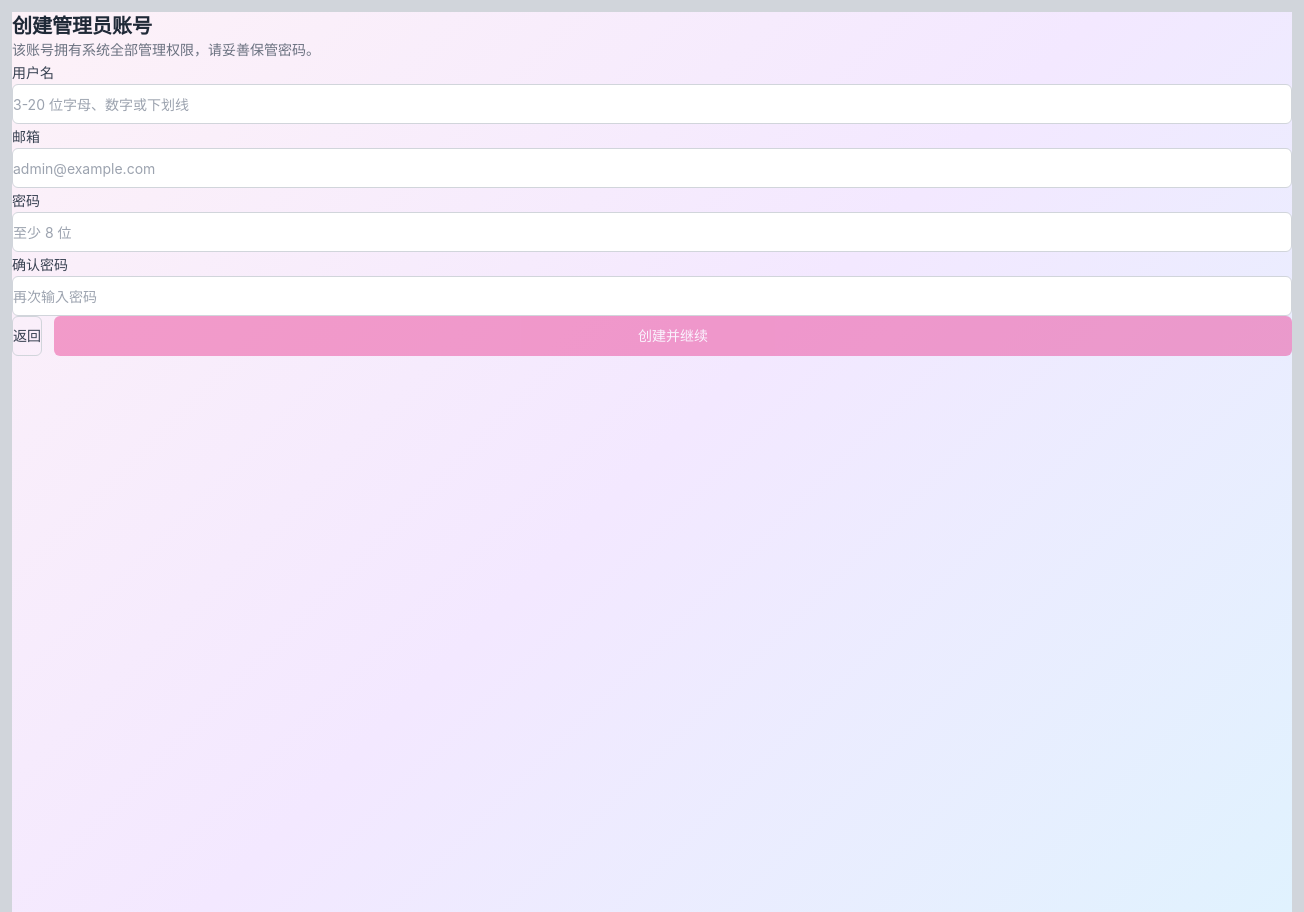
Scenario: Step2Admin · 弱密码实时禁用「创建并继续」（m3） › 全部合法（含两次一致的强密码）时按钮可用
Type "admin01" into the field with test id "onboarding-username" at (652, 104), box [12,84,1292,124]
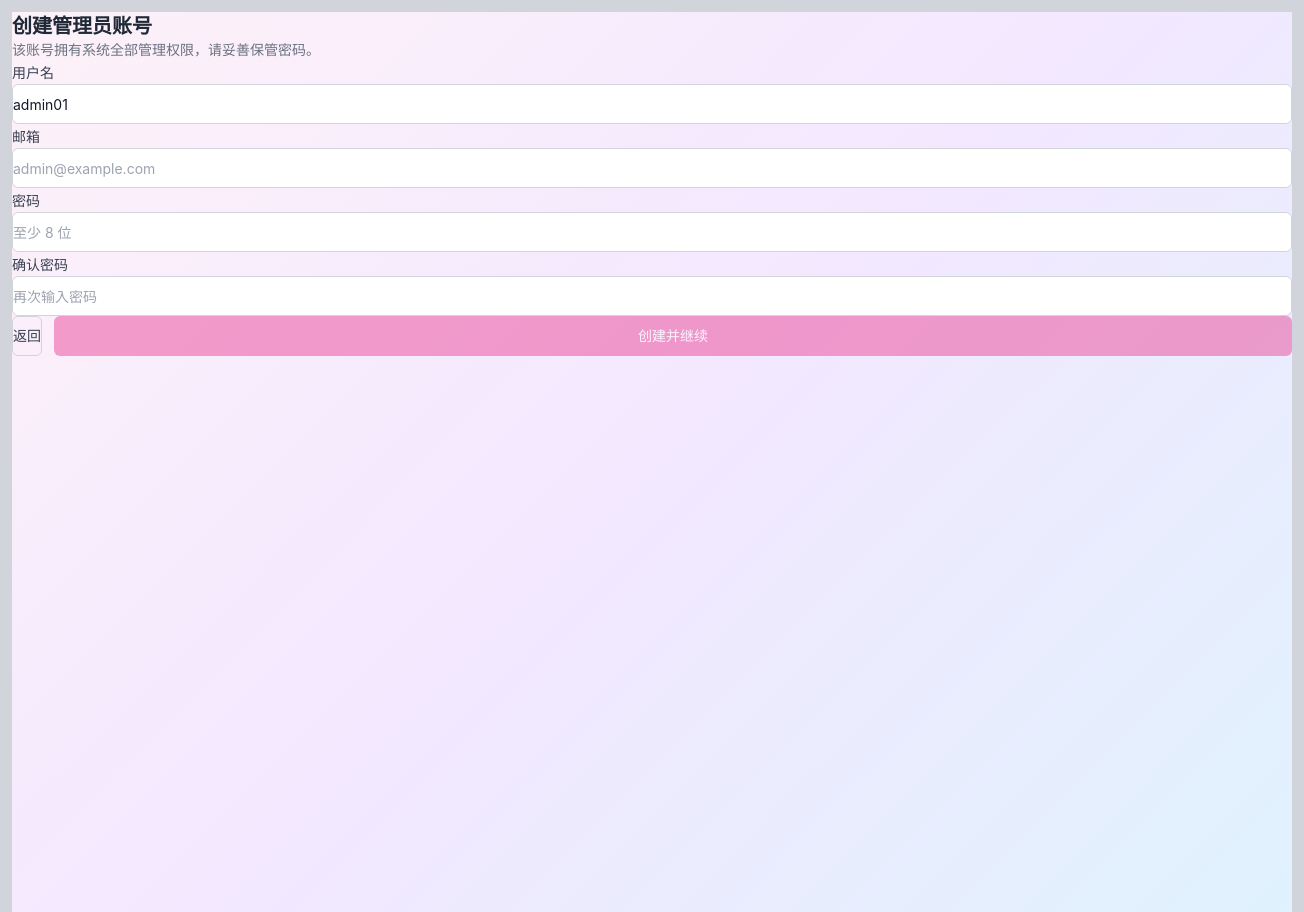
Type "admin@dm.local" into the field with test id "onboarding-email" at (652, 168), box [12,148,1292,188]
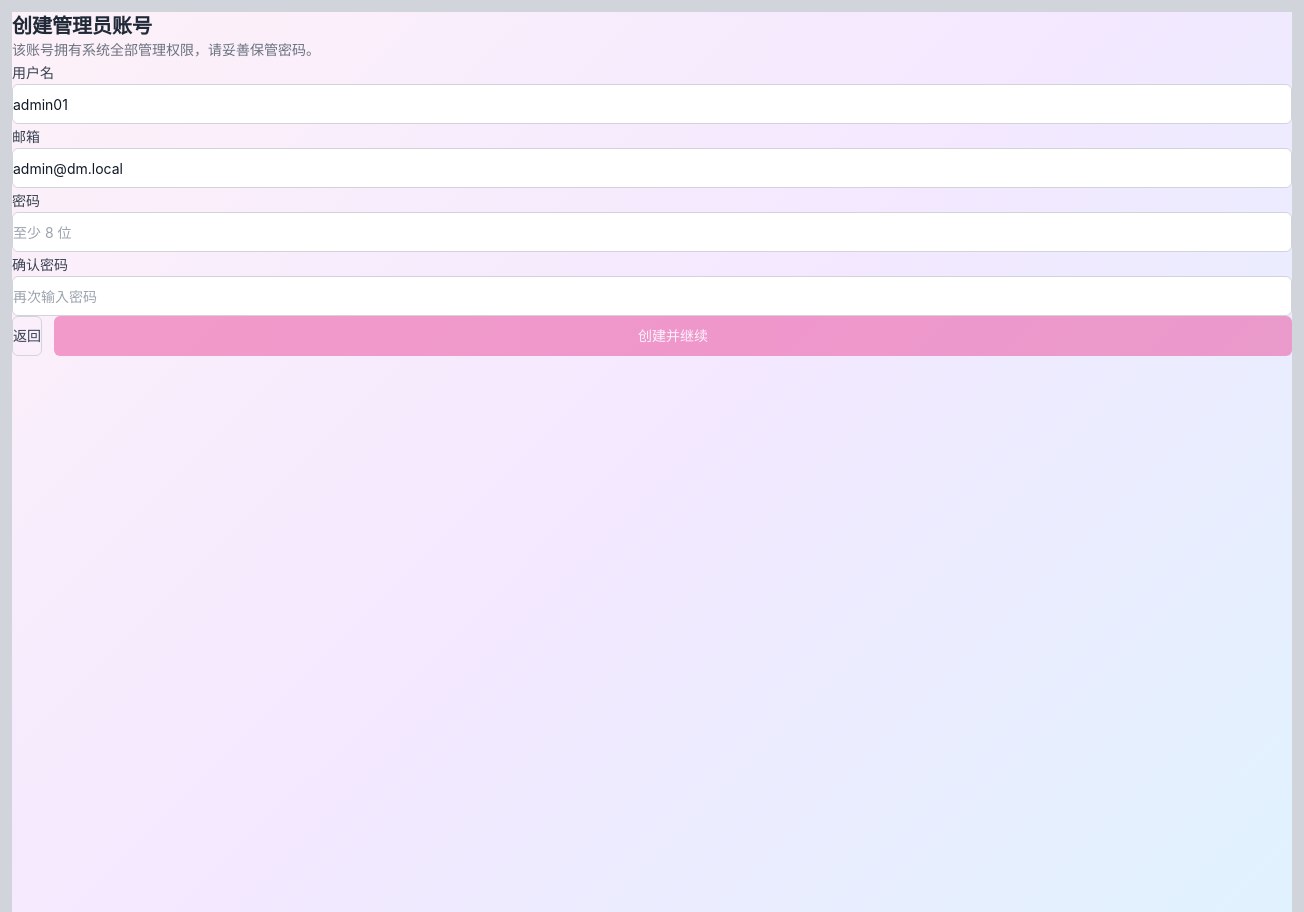
Type "StrongPass123" into the password field with test id "onboarding-password" at (652, 232), box [12,212,1292,252]
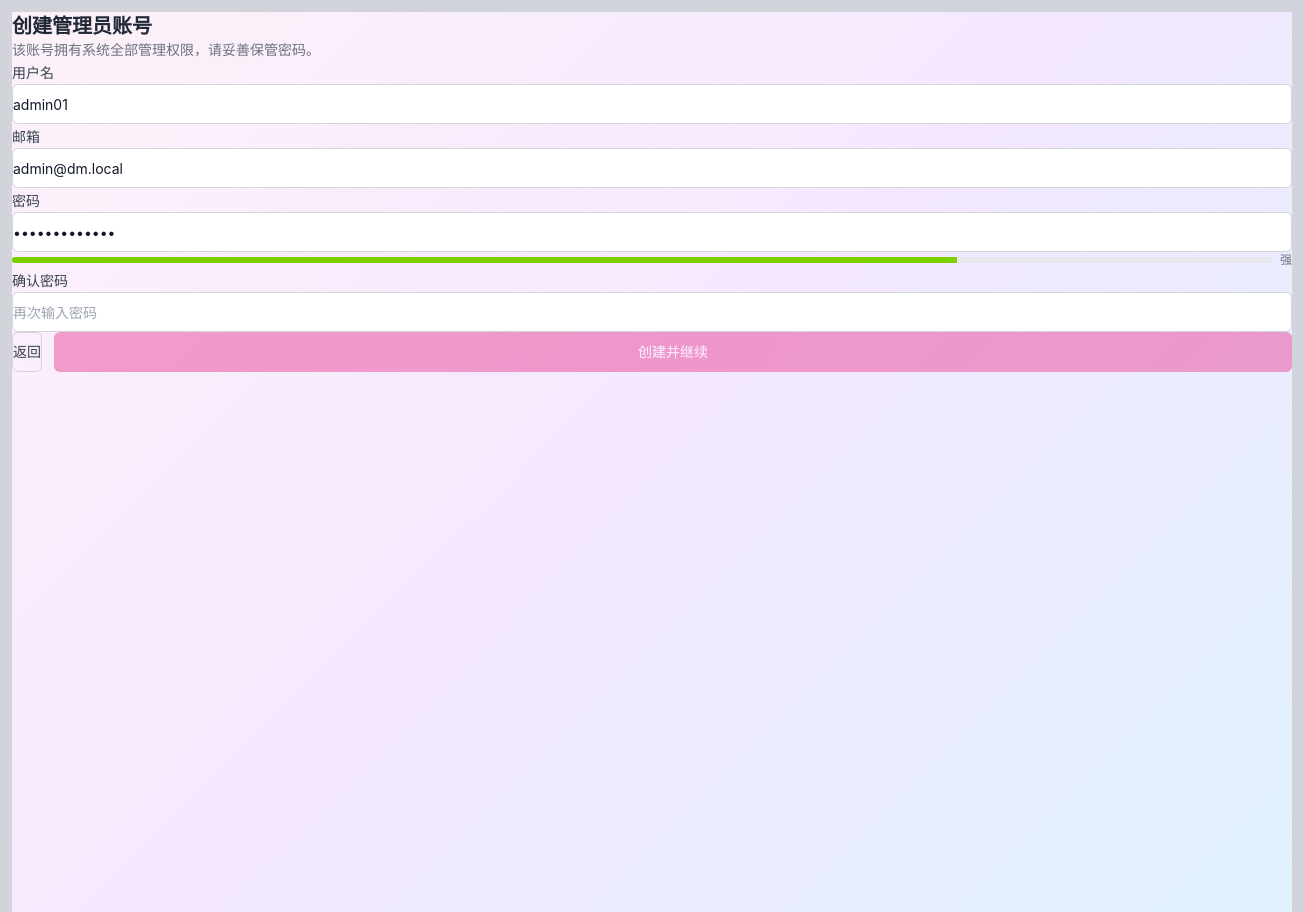
Type "StrongPass123" into the password field with test id "onboarding-confirmPassword" at (652, 312), box [12,292,1292,332]
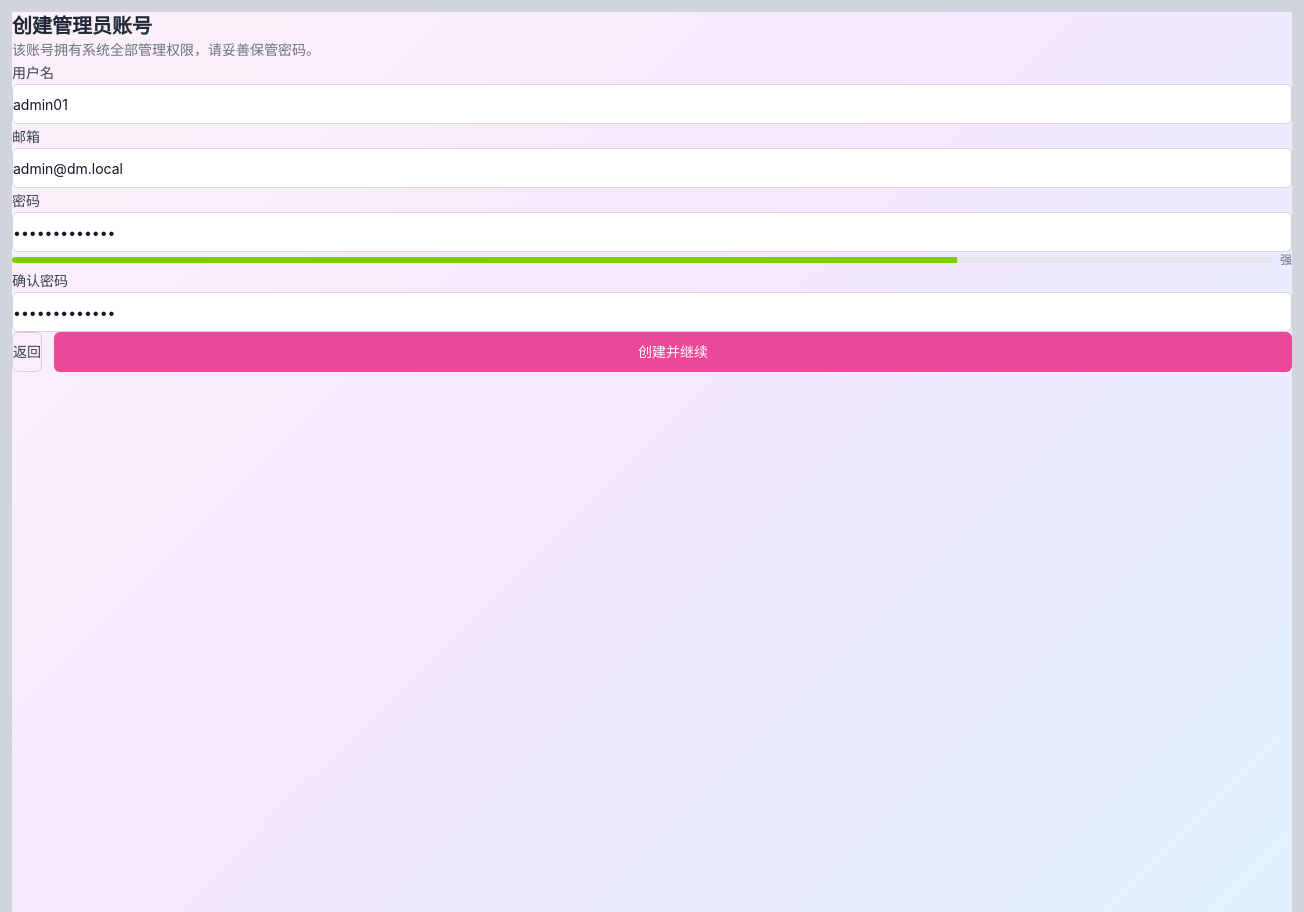
Check: the button with test id "onboarding-create-admin" is enabled, box [54,332,1292,372]
